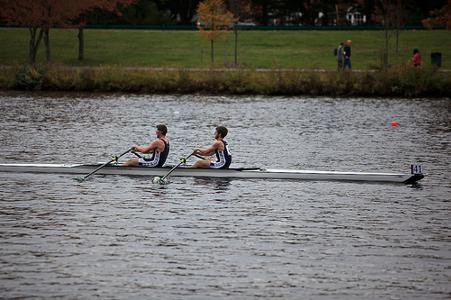person: (189, 125, 233, 172)
